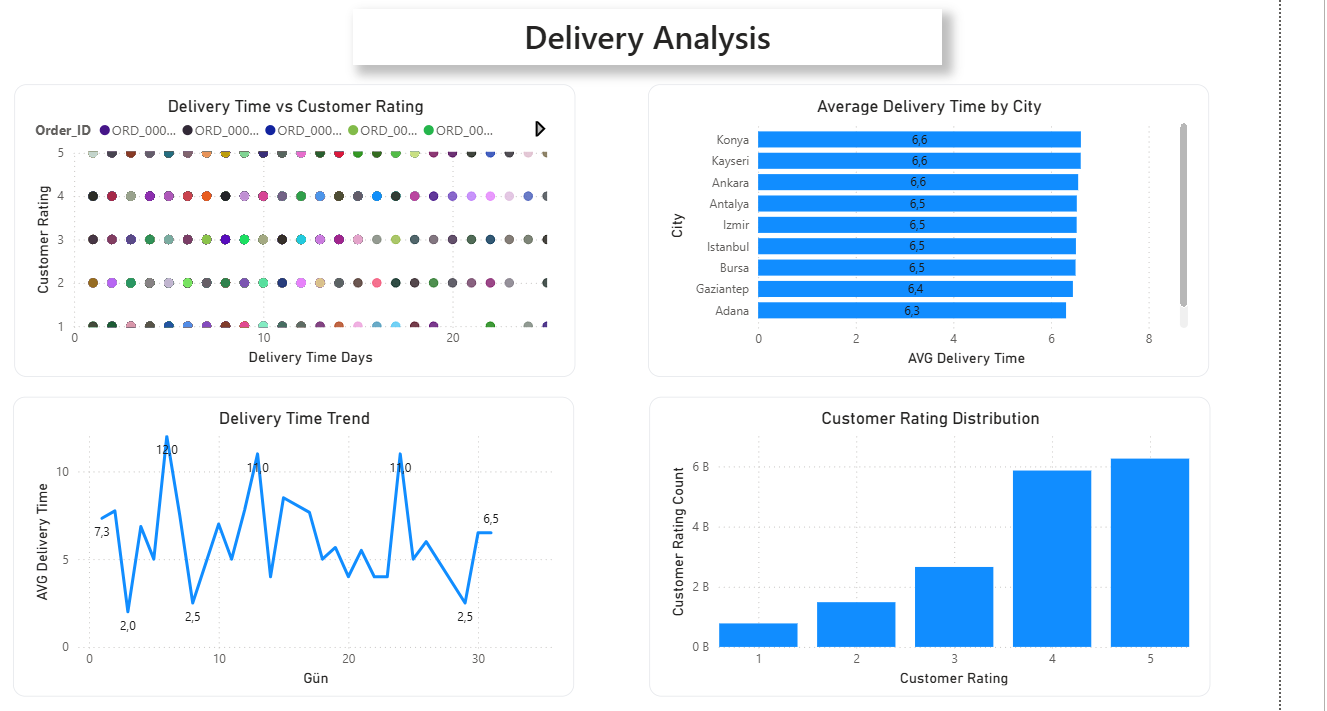

What the dashboard file says about the page in this screenshot:
{"tool":"powerbi","page":{"name":"Delivery Analysis","canvas":[1280,720],"ordinal":3},"visuals":[{"type":"textbox","title":"E-Commerce Performance Overview","box":[358.7,16.6,586.3,55.2],"z":0},{"type":"clusteredBarChart","title":"Average Delivery Time by City","fields":{"Category":["cleaned_data.City"],"Y":["cleaned_data.AVG Delivery Time"]},"box":[651.8,90.8,558.5,291.1],"z":1000},{"type":"lineChart","title":"Delivery Time Trend","fields":{"Category":["cleaned_data.Date.Varyasyon.Tarih Hiyerarşisi.Yıl","cleaned_data.Date.Varyasyon.Tarih Hiyerarşisi.Çeyrek","cleaned_data.Date.Varyasyon.Tarih Hiyerarşisi.Ay","cleaned_data.Date.Varyasyon.Tarih Hiyerarşisi.Gün"],"Y":["cleaned_data.AVG Delivery Time"]},"box":[19.9,401.8,558.5,298.6],"z":2000},{"type":"clusteredColumnChart","title":"Customer Rating Distribution","fields":{"Category":["cleaned_data.Customer_Rating"],"Y":["CountNonNull(cleaned_data.Customer_Rating)"]},"box":[653.1,401.8,558.5,298.6],"z":3000},{"type":"scatterChart","title":"Delivery Time vs Customer Rating","fields":{"X":["cleaned_data.Delivery_Time_Days"],"Y":["cleaned_data.Customer_Rating"],"Series":["cleaned_data.Order_ID"]},"box":[20.6,90.6,558.5,290.9],"z":4000}]}

Visuals, with their boxes on the page's 1280x720 design canvas (x1, y1, x2, y2). These are canvas units, not pixel positions in the 1327x711 screenshot, which may show the page scaled, cropped or inside an application window:
"E-Commerce Performance Overview" textbox: (359, 17, 945, 72)
"Average Delivery Time by City" clusteredBarChart: (652, 91, 1210, 382)
"Delivery Time Trend" lineChart: (20, 402, 578, 700)
"Customer Rating Distribution" clusteredColumnChart: (653, 402, 1212, 700)
"Delivery Time vs Customer Rating" scatterChart: (21, 91, 579, 382)
